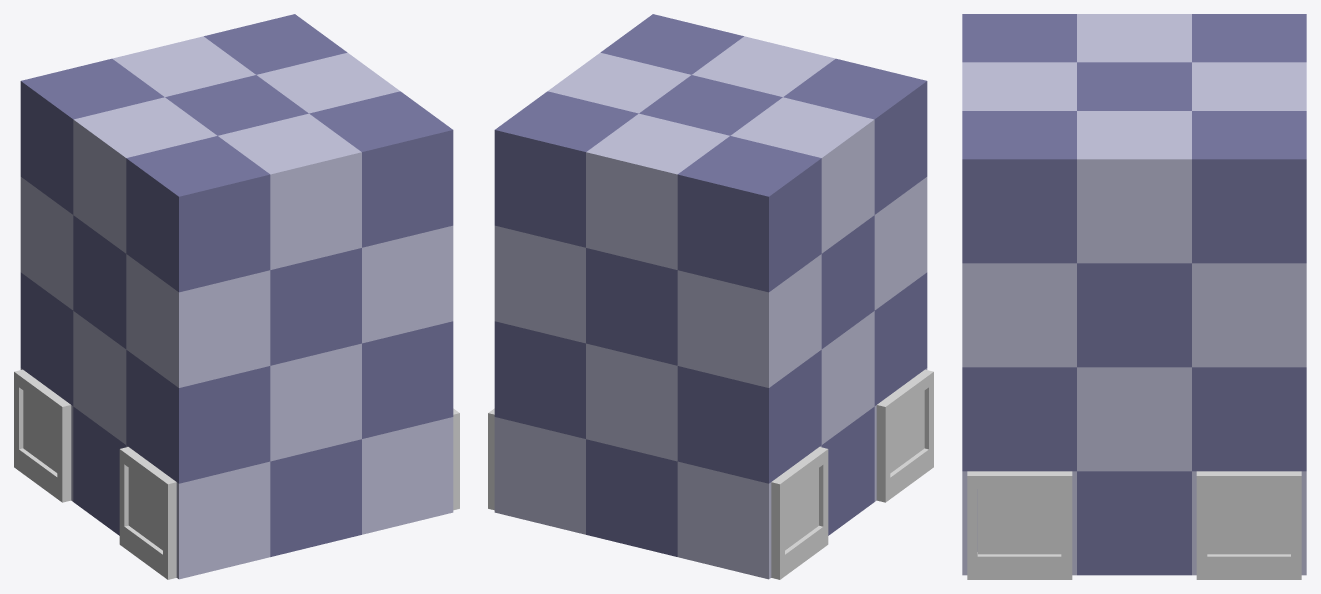
The model's file is unitsmall.fbx.
3 renders of one model, left to right at view 1: azimuth 30°, elevation 25°; view 2: azimuth 150°, elevation 25°; view 3: azimuth 270°, elevation 25°, orthographic. The views are drawn at different scales.
Visible parts, largest first — view 1: SmallStorage_StorageUnitSmall; view 2: SmallStorage_StorageUnitSmall; view 3: SmallStorage_StorageUnitSmall.
Part boxes in pixels (x1=…): SmallStorage_StorageUnitSmall: x1=14, y1=14, x2=459, y2=579; SmallStorage_StorageUnitSmall: x1=488, y1=14, x2=933, y2=579; SmallStorage_StorageUnitSmall: x1=962, y1=14, x2=1306, y2=579.
Size of the model in its own units: 639 by 800 by 600.
